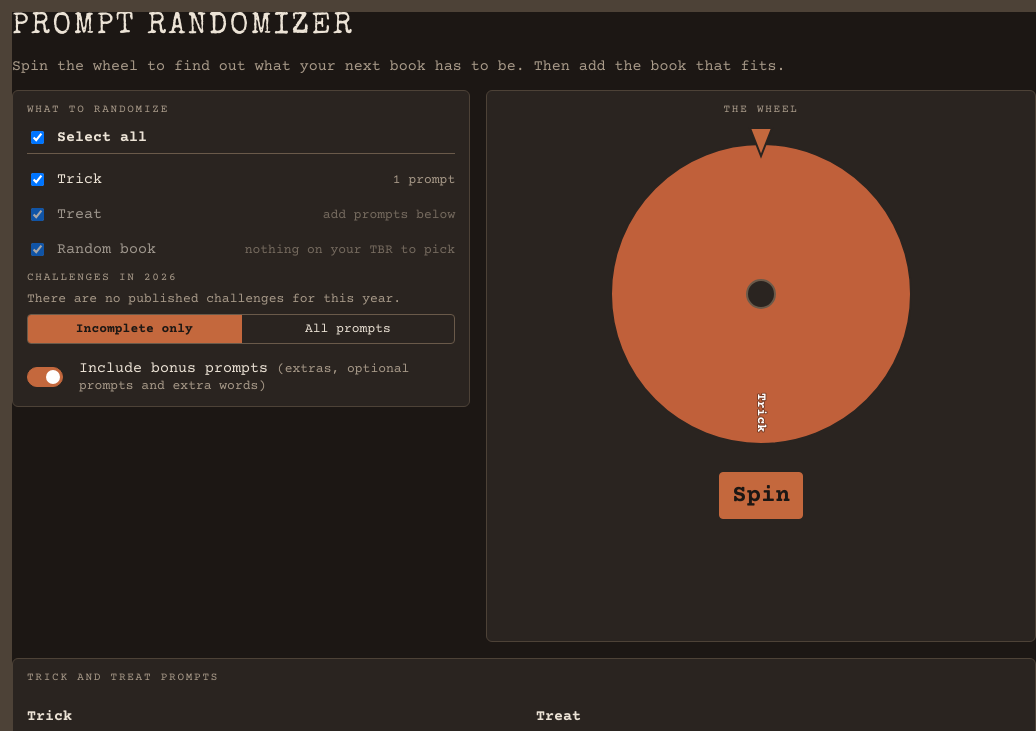
Test case: the wheel view with a fixed random source › lands on the chosen prompt without waiting for the animation when spinMs is 0
Click the button "Spin": x=761, y=496 [719, 472, 803, 519]
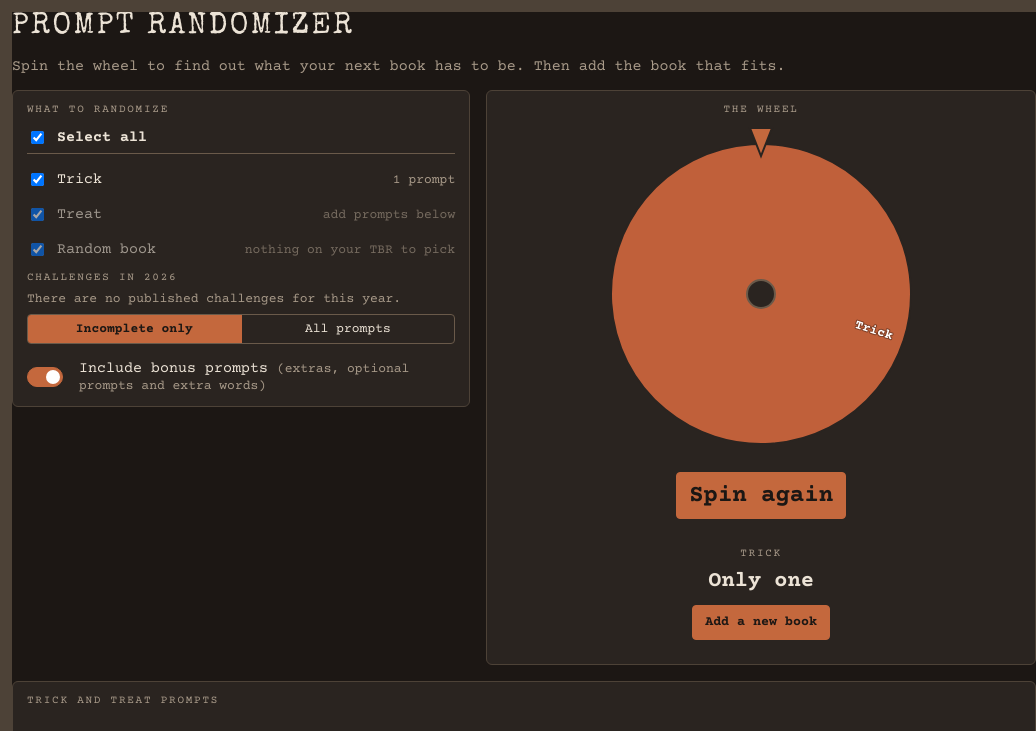
Check: the text with class "rzprompt" reads "Only one", box [708, 569, 814, 594]
